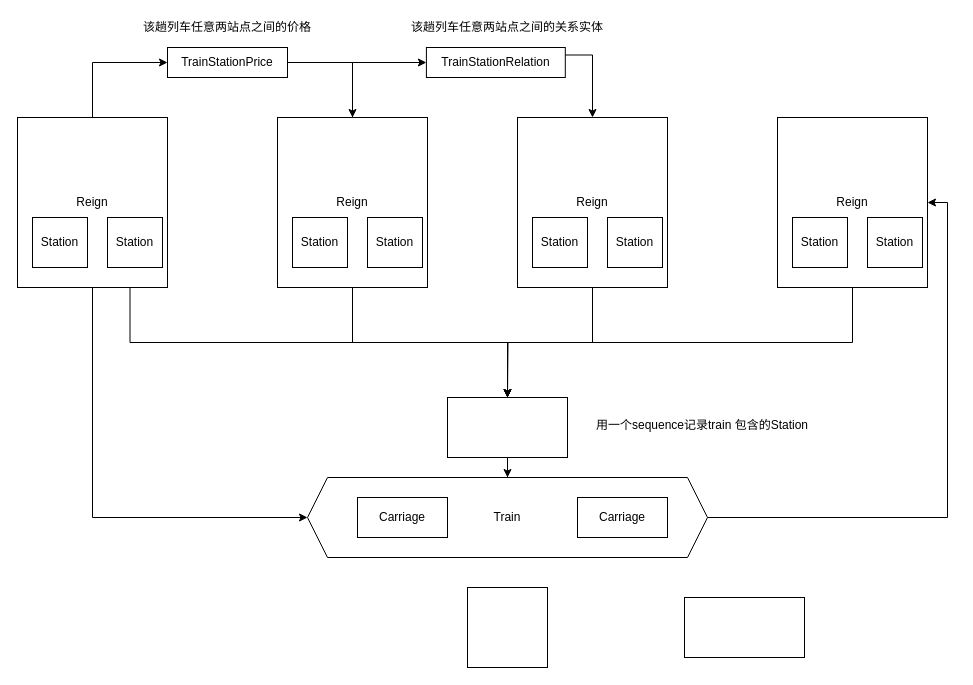
This 973x685 diagram has some shape labels left out. The centre of each missing label's shape, as x and y in pixels:
"Seat" belongs at (x=507, y=627).
"Ticket" belongs at (x=744, y=627).
"TrainStaion" belongs at (x=507, y=427).
